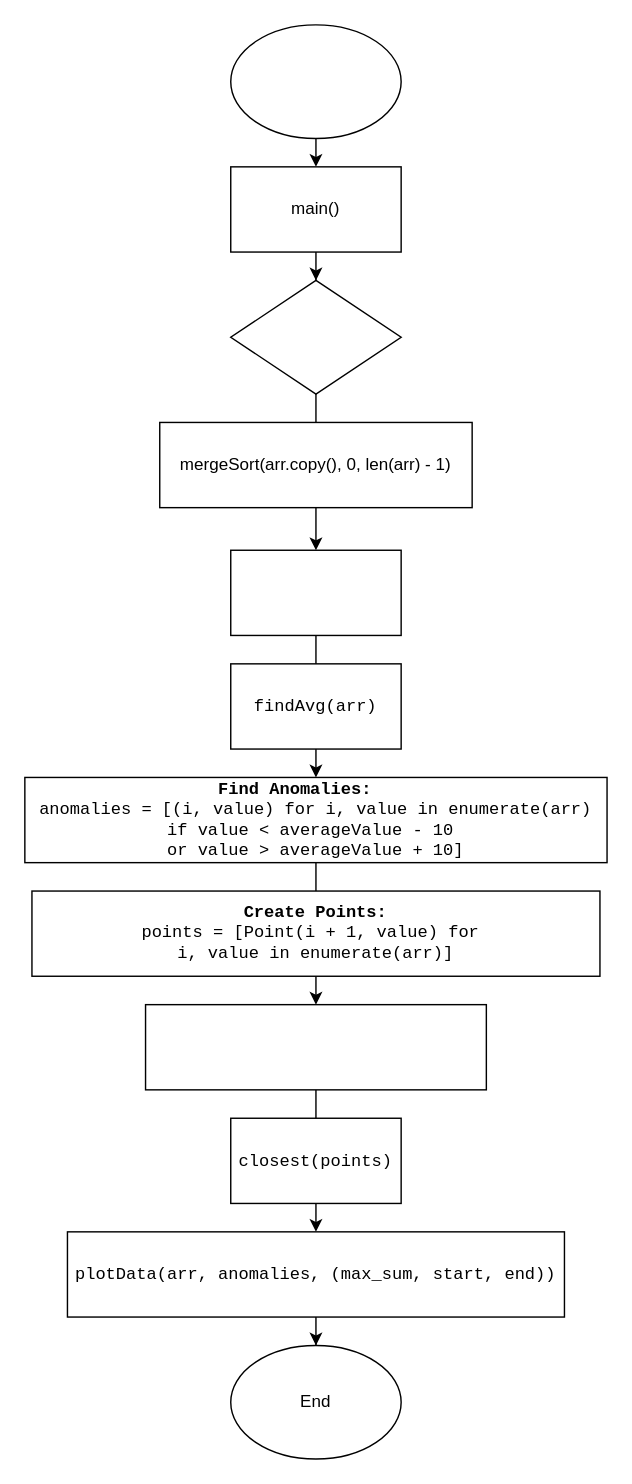
This 632x1484 diagram has some shape labels left out. Here are the shapes that lost their labels. From the top down, the centre of each, then its label:
point 315,80: Start
point 315,336: Input Array
point 315,592: maxSubArray(arr)
point 315,1046: sort_points_by_y(points.copy())
